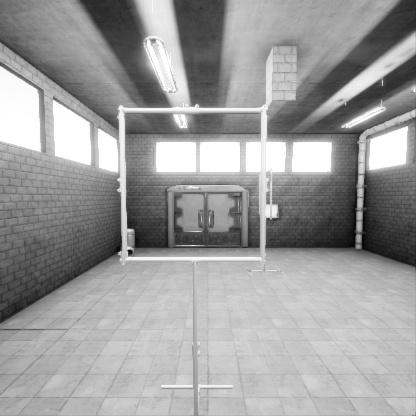gate: (130, 163, 275, 307), (259, 199, 272, 249)
